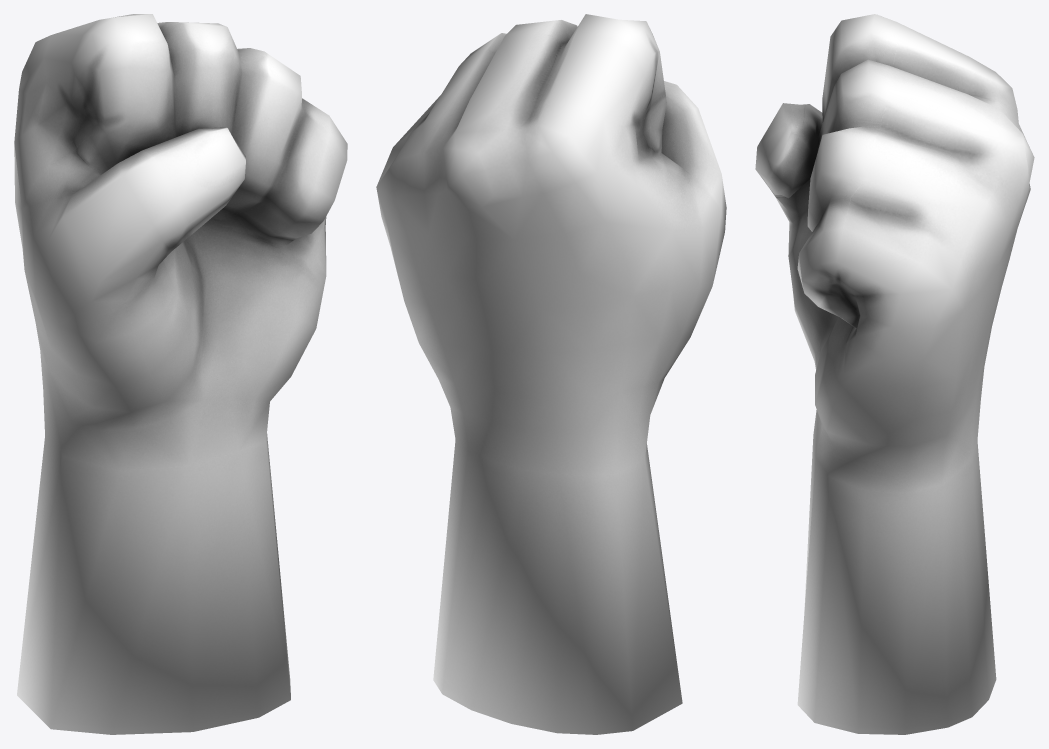
Rendered from 015_a_fist_lp.fbx.
The picture shows the model from 3 angles, left to right: view 1: azimuth 30°, elevation 25°; view 2: azimuth 150°, elevation 25°; view 3: azimuth 270°, elevation 25°; orthographic projection. The views are drawn at different scales.
Parts seen in each view (by area): view 1: 015_a_fist; view 2: 015_a_fist; view 3: 015_a_fist.
Boxes of the visible parts, x1=… form: 015_a_fist: x1=14, y1=14, x2=347, y2=734; 015_a_fist: x1=376, y1=14, x2=726, y2=734; 015_a_fist: x1=755, y1=14, x2=1034, y2=734.
Bounding box in the file's own units: 14.52 × 31.11 × 12.2.
